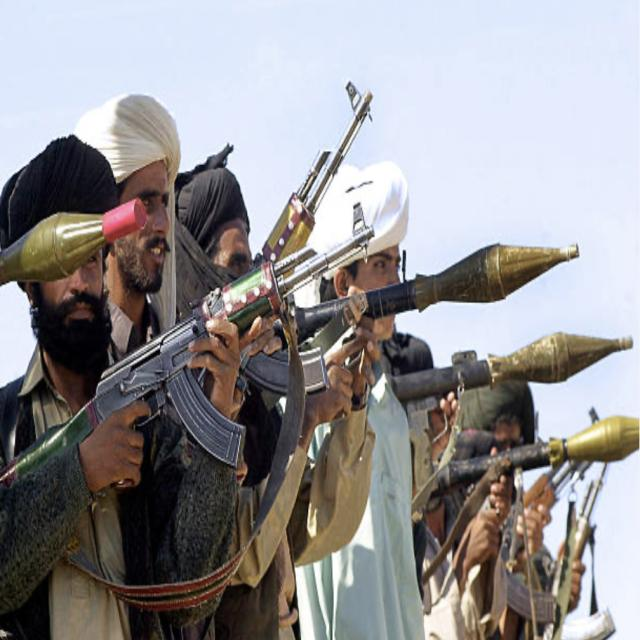bazooka: (295, 233, 585, 340), (390, 325, 638, 411), (439, 404, 640, 497), (2, 189, 153, 287)
